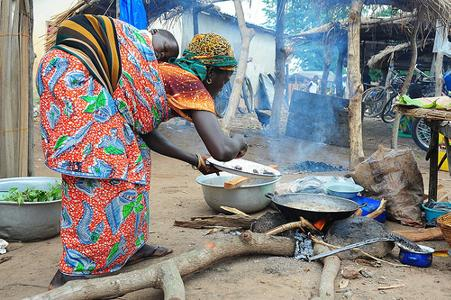person: (39, 13, 254, 294)
